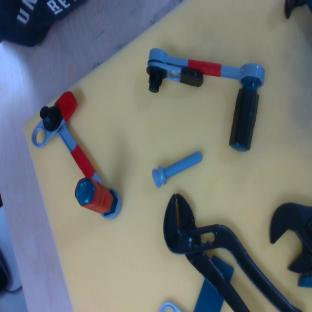non_pass: (133, 42, 267, 153)
pass: (20, 90, 126, 235)
